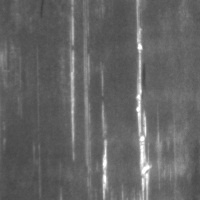scratches: (132, 1, 154, 200), (64, 1, 82, 161), (95, 70, 113, 200)
